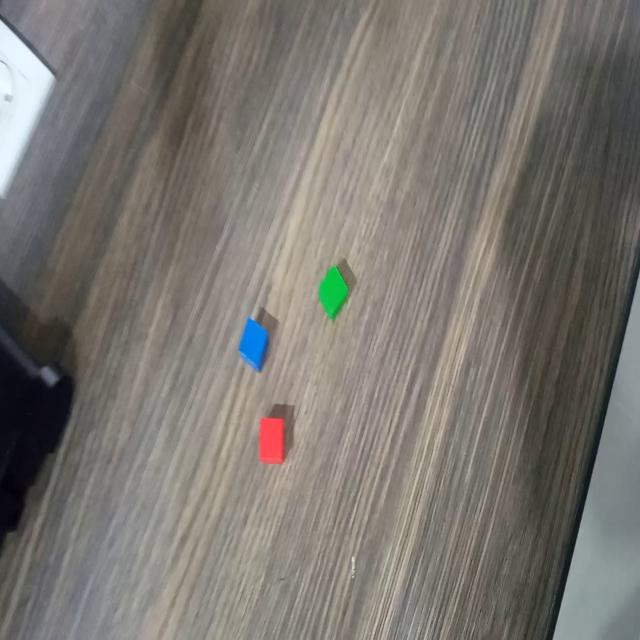cube: (234, 312, 271, 370), (316, 262, 351, 316), (257, 414, 287, 467)
